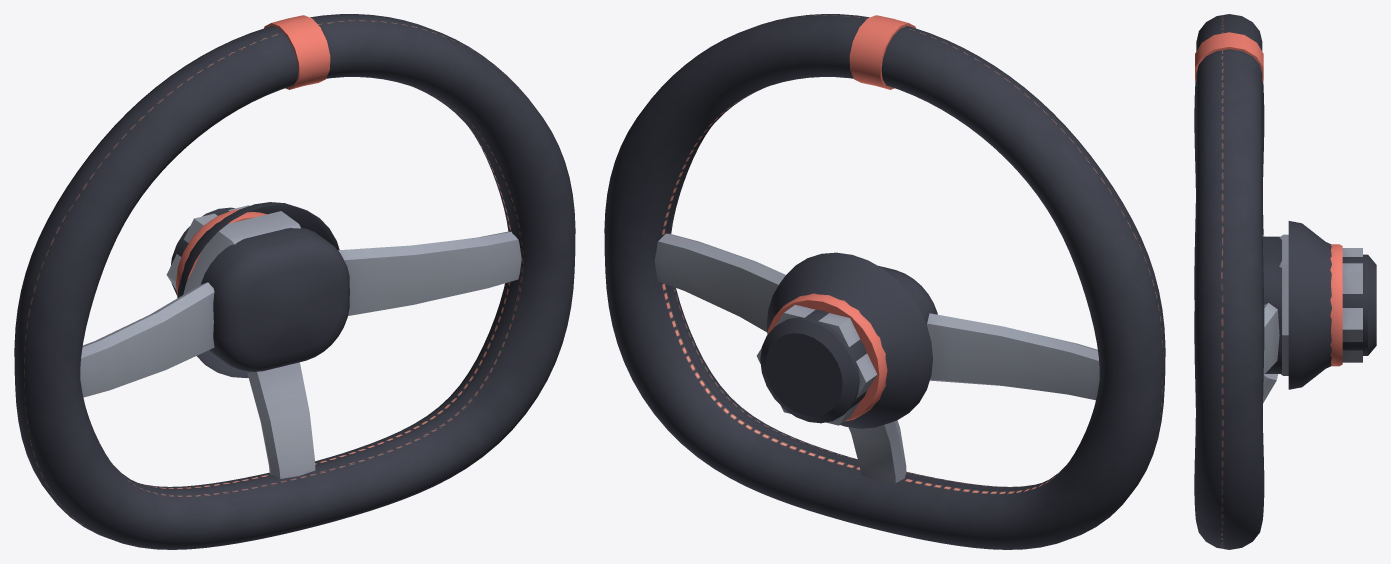
The model's file is sports-steering-wheel.obj.
3 renders of one model, left to right at view 1: azimuth 30°, elevation 25°; view 2: azimuth 150°, elevation 25°; view 3: azimuth 270°, elevation 25°, orthographic. The views are drawn at different scales.
Visible parts, largest first — view 1: sports-steering-wheel_steering_rim; view 2: sports-steering-wheel_steering_rim; view 3: sports-steering-wheel_steering_rim.
Boxes of the visible parts, <box> form: sports-steering-wheel_steering_rim: <box>14,14,575,549</box>; sports-steering-wheel_steering_rim: <box>604,14,1165,549</box>; sports-steering-wheel_steering_rim: <box>1194,14,1376,549</box>.
Size of the model in its own units: 0.3416 by 0.2991 by 0.1077.
1 material, 1 textured.
